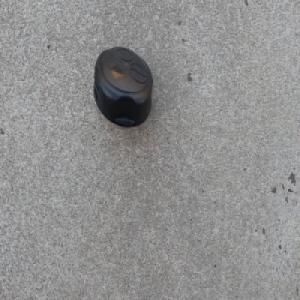FuelCap: (91, 45, 152, 132)
